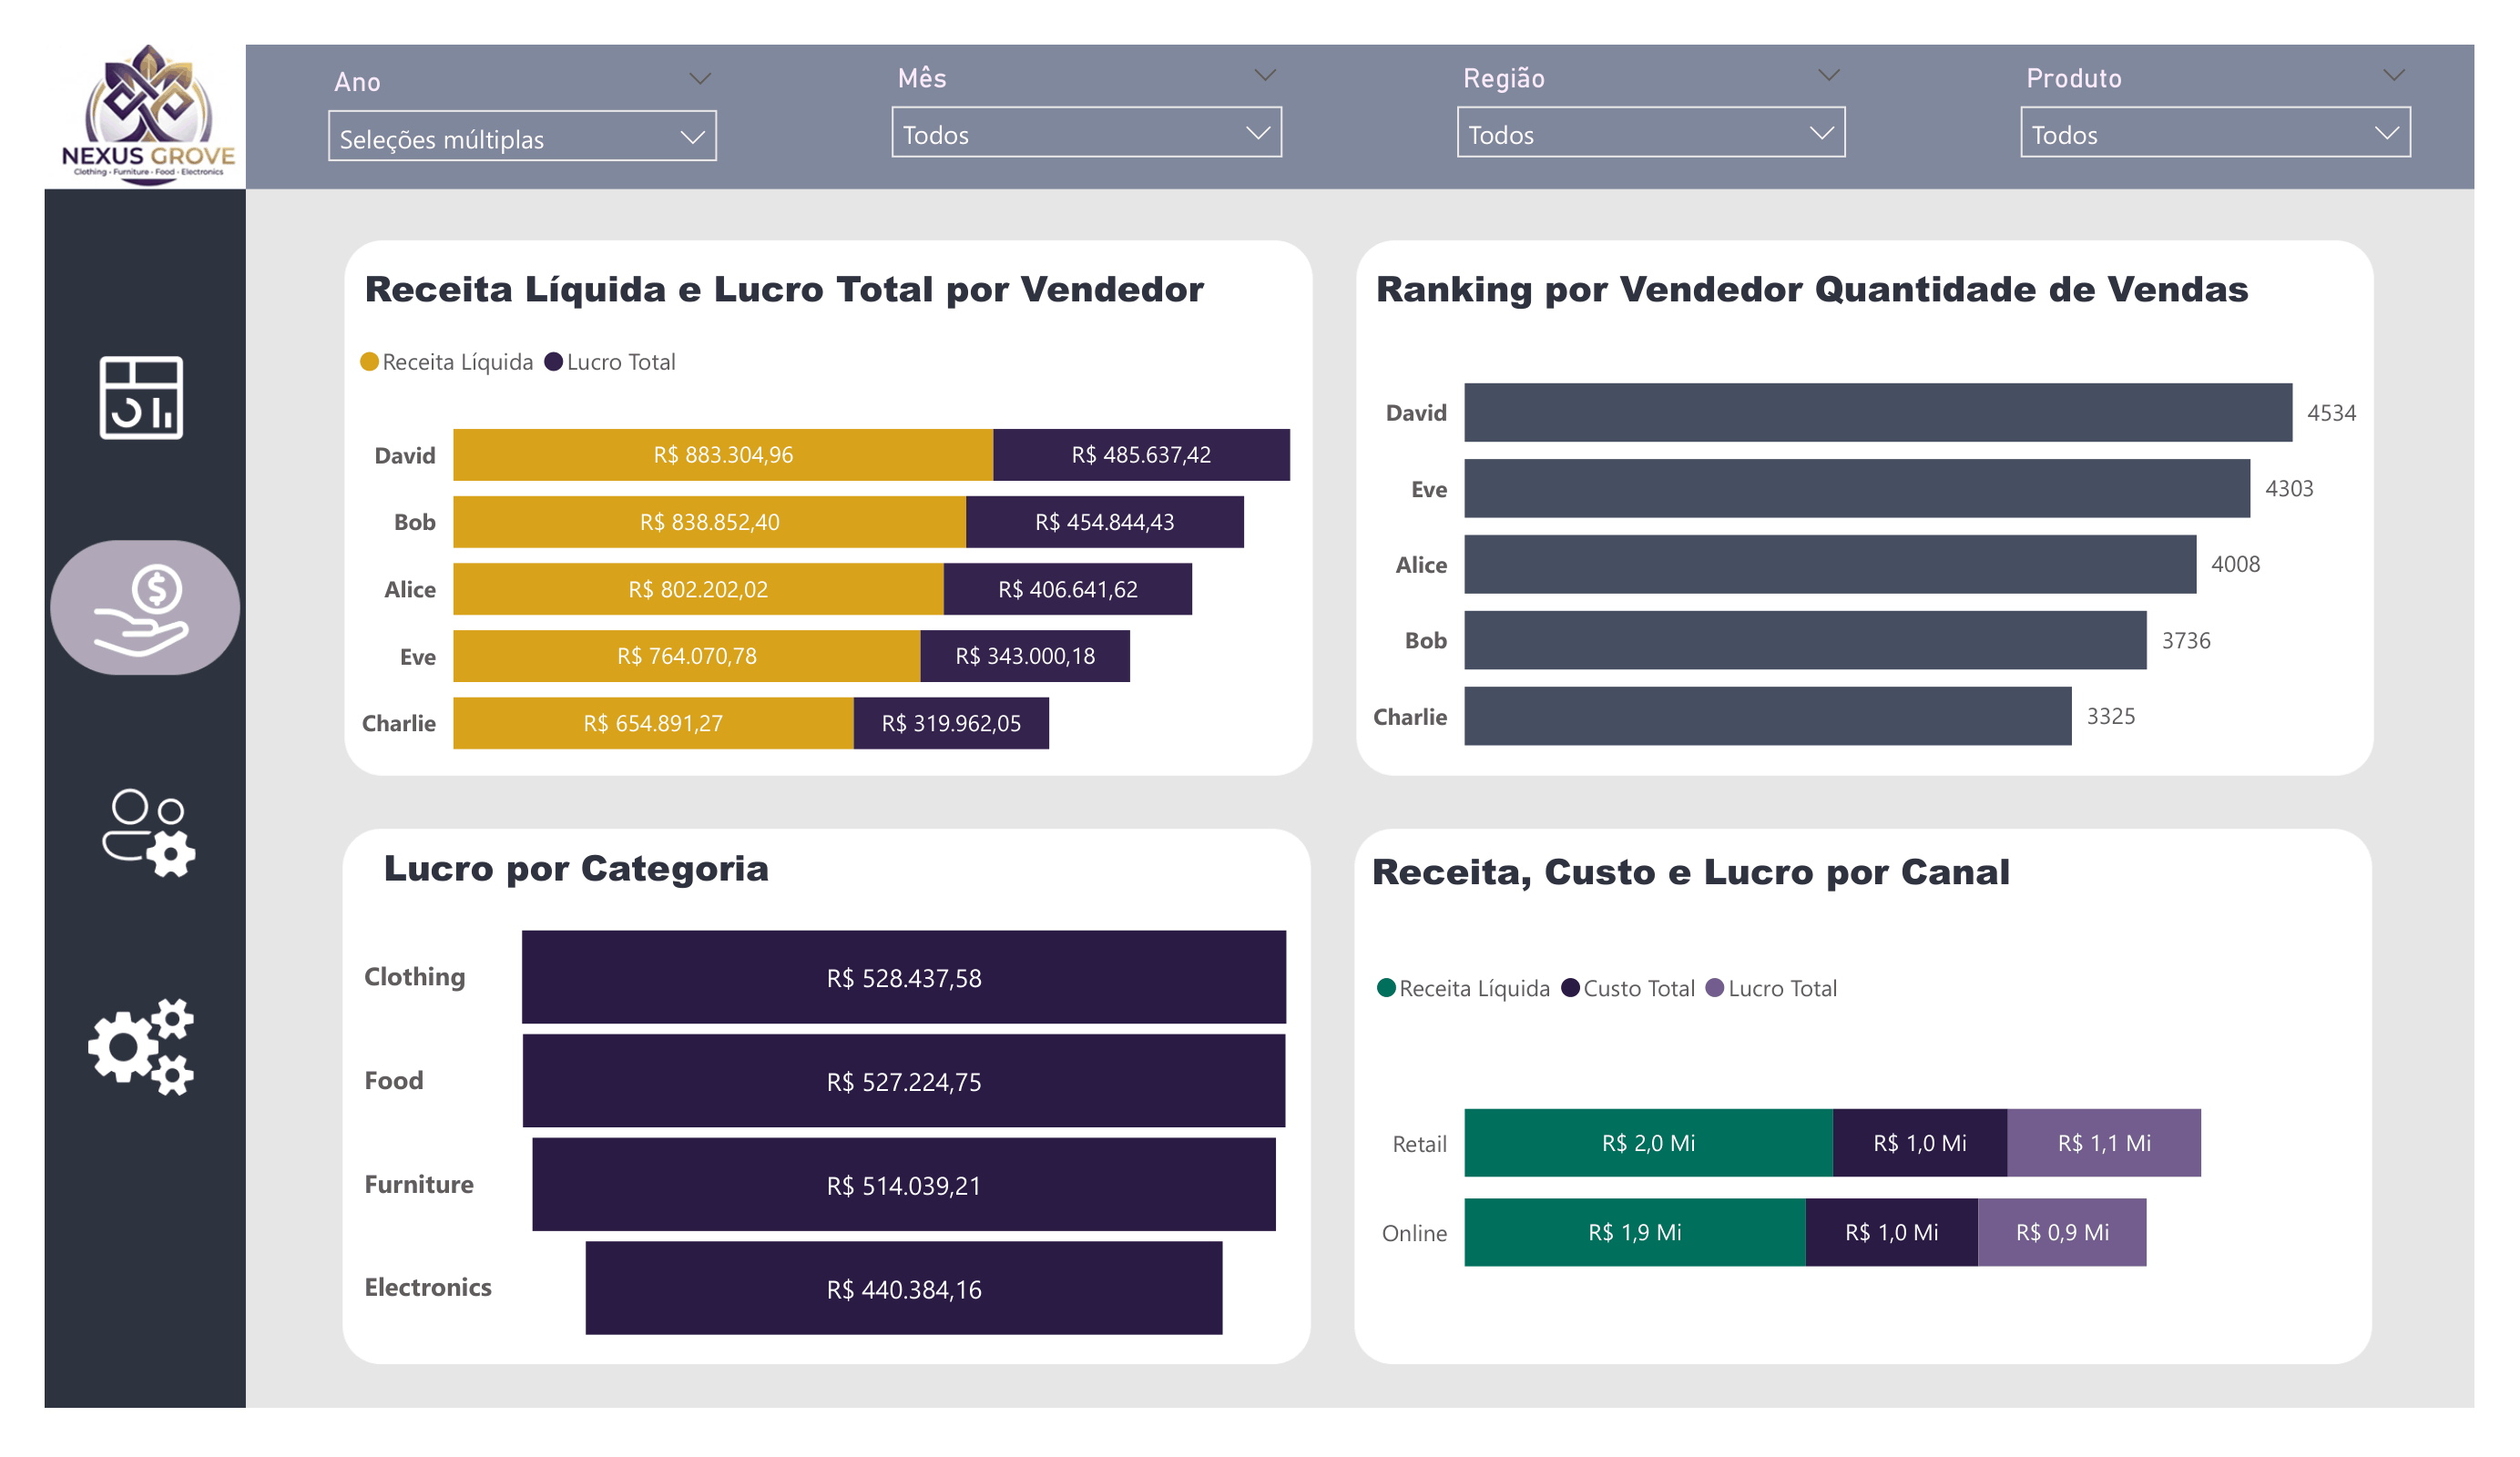

This screenshot's page, from the dashboard's own definition file:
{"tool":"powerbi","page":{"name":"Performance Comercial","canvas":[1280,720],"ordinal":1},"visuals":[{"type":"barChart","fields":{"Category":["vendas.Sales_Rep"],"Y":["Medidas.02 Receita Líquida","Medidas.04 Lucro Total"]},"box":[160,147.1,511.4,244.3],"z":0},{"type":"funnel","fields":{"Category":["vendas.Product_Category"],"Y":["Medidas.04 Lucro Total"]},"box":[162.9,455.7,501.4,234.3],"z":1000},{"type":"barChart","fields":{"Category":["vendas.Sales_Channel"],"Y":["Medidas.02 Receita Líquida","Medidas.03 Custo Total","Medidas.04 Lucro Total"]},"box":[695.7,477.1,531.4,215.7],"z":2000},{"type":"clusteredBarChart","fields":{"Category":["vendas.Sales_Rep"],"Y":["Medidas.06 Quantidade Total"]},"box":[692.9,148.6,531.4,242.9],"z":3000},{"type":"textbox","box":[162.9,108.6,481.4,40],"z":4000},{"type":"textbox","box":[695.7,108.6,481.4,40],"z":5000},{"type":"textbox","box":[172.9,414.3,481.4,40],"z":6000},{"type":"textbox","box":[694.3,415.7,481.4,40],"z":7000},{"type":"actionButton","box":[0,161.7,100,55],"z":8000},{"type":"actionButton","box":[0,375,100,80],"z":9000},{"type":"actionButton","box":[0,490,100,83.3],"z":10000},{"type":"slicer","fields":{"Values":["dCalendario.Ano"]},"box":[138.8,6,225.4,65.7],"z":11000},{"type":"slicer","fields":{"Values":["dCalendario.Nome do Mês"]},"box":[436.3,4.5,225.4,65.7],"z":12000},{"type":"slicer","fields":{"Values":["vendas.Region"]},"box":[733.8,4.5,225.4,65.7],"z":13000},{"type":"slicer","fields":{"Values":["vendas.Product_Category"]},"box":[1031.3,4.5,225.4,65.7],"z":14000}]}

Visuals, with their boxes on the page's 1280x720 design canvas (x1, y1, x2, y2). These are canvas units, not pixel positions in the 2520x1457 screenshot, which may show the page scaled, cropped or inside an application window:
barChart - vendas.Sales_Rep x Medidas.02 Receita Líquida: select_region(160, 147, 671, 391)
funnel - vendas.Product_Category x Medidas.04 Lucro Total: select_region(163, 456, 664, 690)
barChart - vendas.Sales_Channel x Medidas.02 Receita Líquida: select_region(696, 477, 1227, 693)
clusteredBarChart - vendas.Sales_Rep x Medidas.06 Quantidade Total: select_region(693, 149, 1224, 392)
textbox: select_region(163, 109, 644, 149)
textbox: select_region(696, 109, 1177, 149)
textbox: select_region(173, 414, 654, 454)
textbox: select_region(694, 416, 1176, 456)
actionButton: select_region(0, 162, 100, 217)
actionButton: select_region(0, 375, 100, 455)
actionButton: select_region(0, 490, 100, 573)
slicer - dCalendario.Ano: select_region(139, 6, 364, 72)
slicer - dCalendario.Nome do Mês: select_region(436, 4, 662, 70)
slicer - vendas.Region: select_region(734, 4, 959, 70)
slicer - vendas.Product_Category: select_region(1031, 4, 1257, 70)
